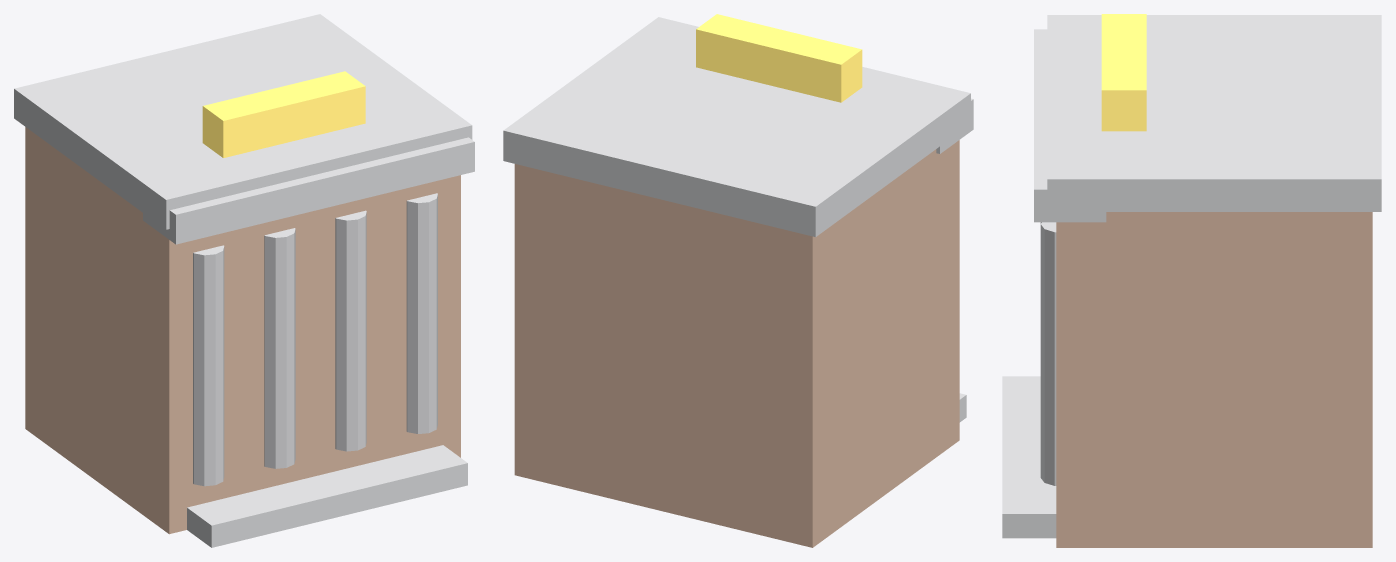
The model's file is library.glb.
3 renders of one model, left to right at view 1: azimuth 30°, elevation 25°; view 2: azimuth 150°, elevation 25°; view 3: azimuth 270°, elevation 25°, orthographic. The views are drawn at different scales.
Visible parts, largest first — view 1: library; view 2: library; view 3: library.
Part boxes in pixels (x1,y1,x2,y2): library: [14, 14, 474, 547]; library: [503, 14, 973, 547]; library: [1002, 14, 1381, 547].
Bounding box in the file's own units: 0.86 × 1.02 × 0.84.
